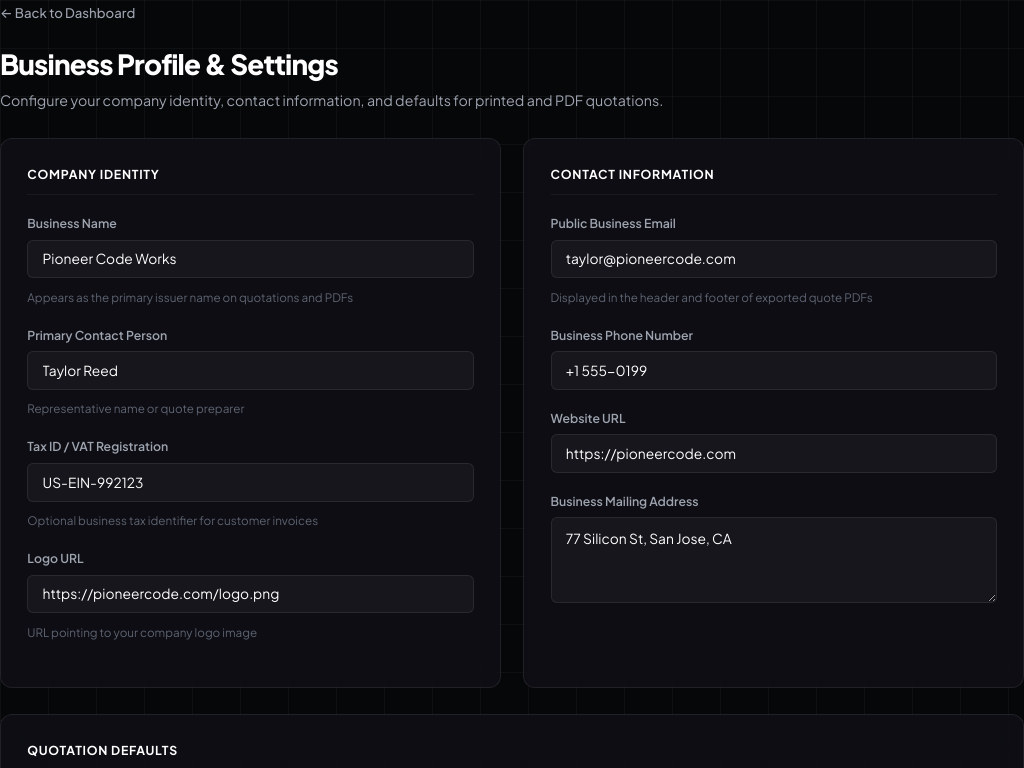
Test: SettingsPage › submits updated profile values and displays success banner
Replace the text in the field labelled "Business Name" with "Pioneer Code Works Global" at (250, 259), box [27,240,474,278]
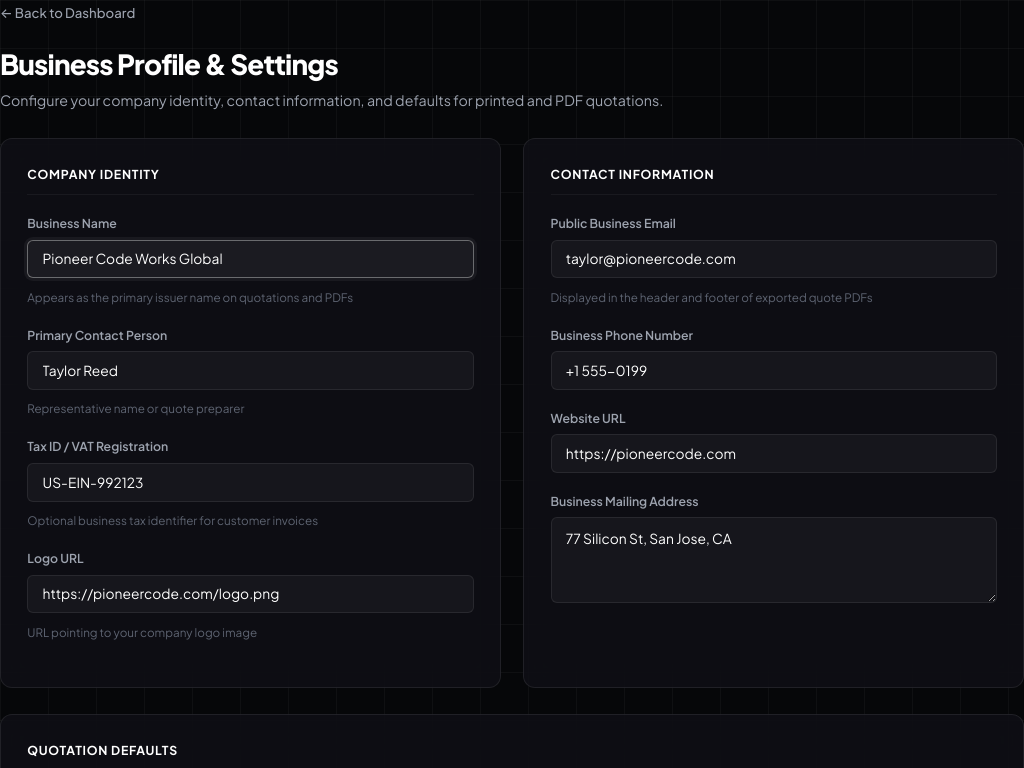
Replace the text in the field labelled "Business Phone Number" with "+1 555-9999" at (774, 371), box [550,351,997,390]
(page scrolled)
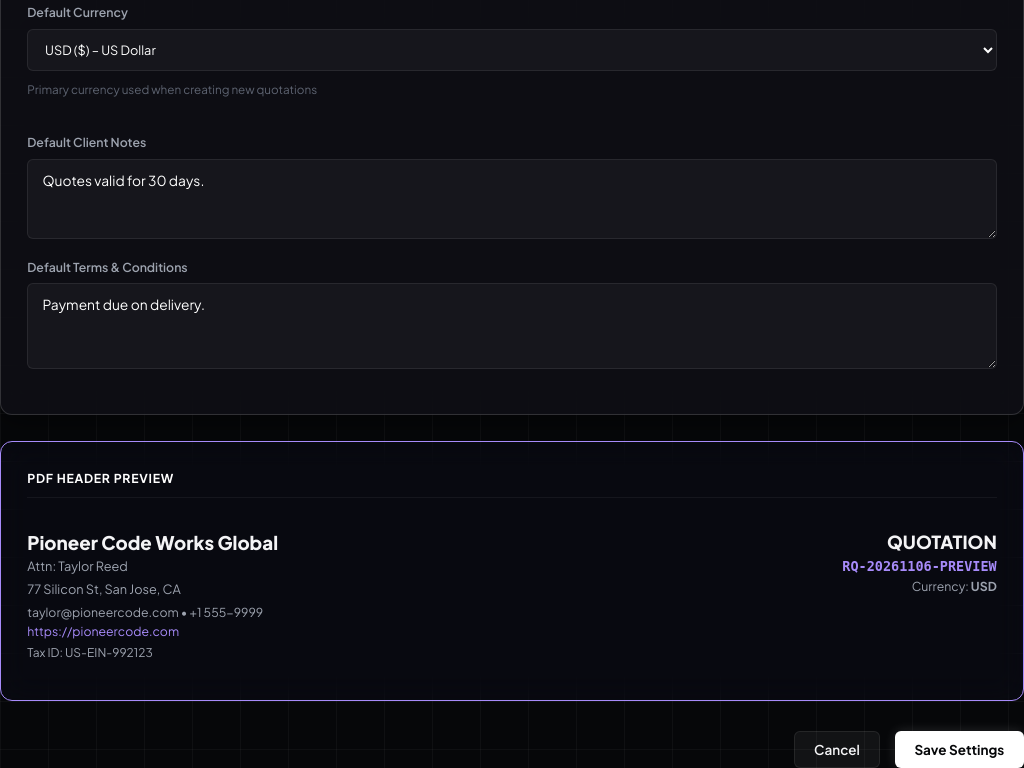
Click the button "Save Settings".
click(959, 750)  # box [895,731,1023,767]
(page scrolled)
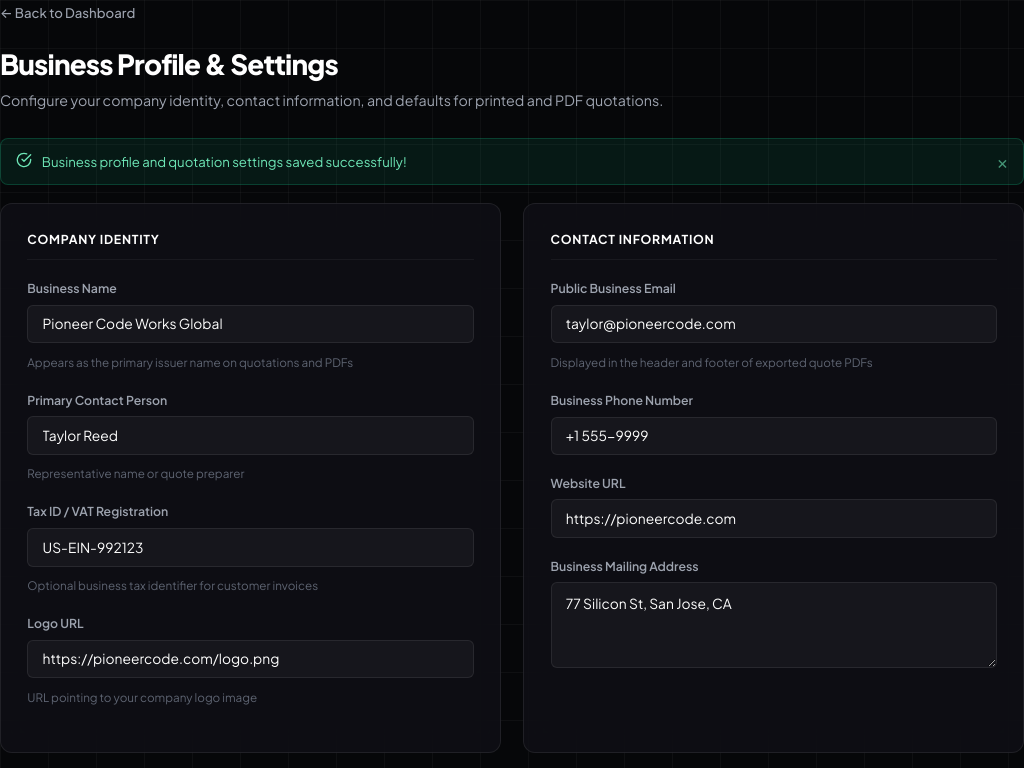
Check: the text "Business profile and quotation settings saved successfully!" is shown, box [42,152,407,171]
